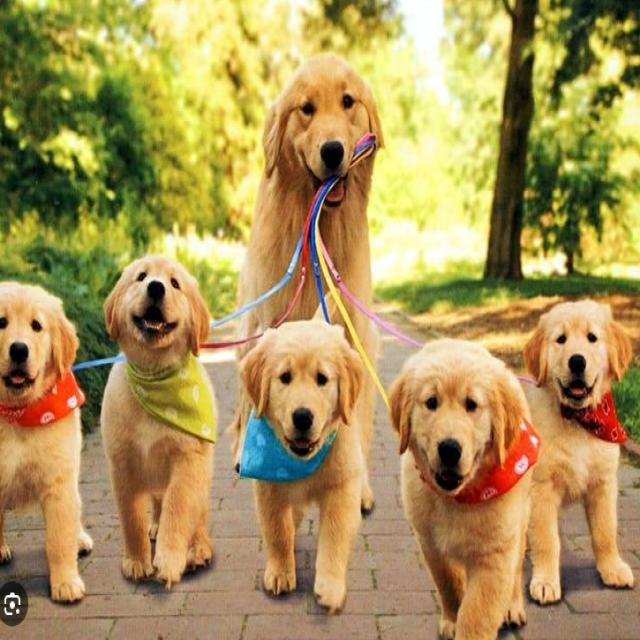dogs: (389, 336, 536, 638), (237, 322, 381, 620), (105, 253, 220, 594), (251, 49, 393, 318), (527, 301, 640, 602), (0, 275, 100, 607)
